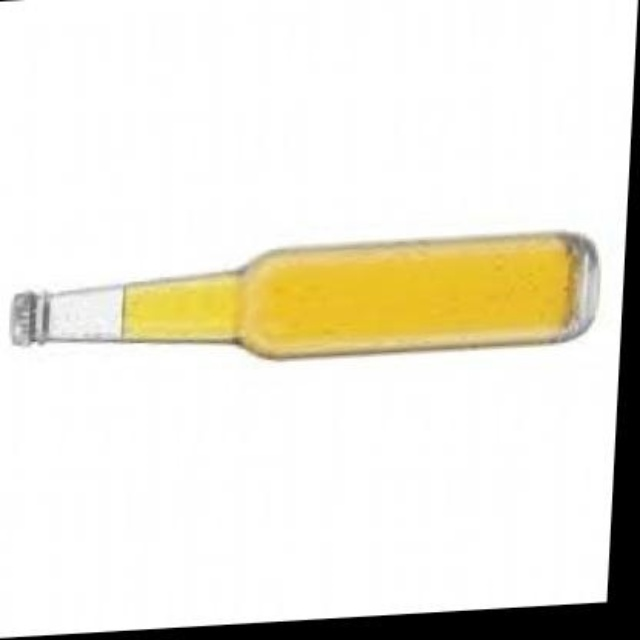trash: (11, 232, 597, 357)
